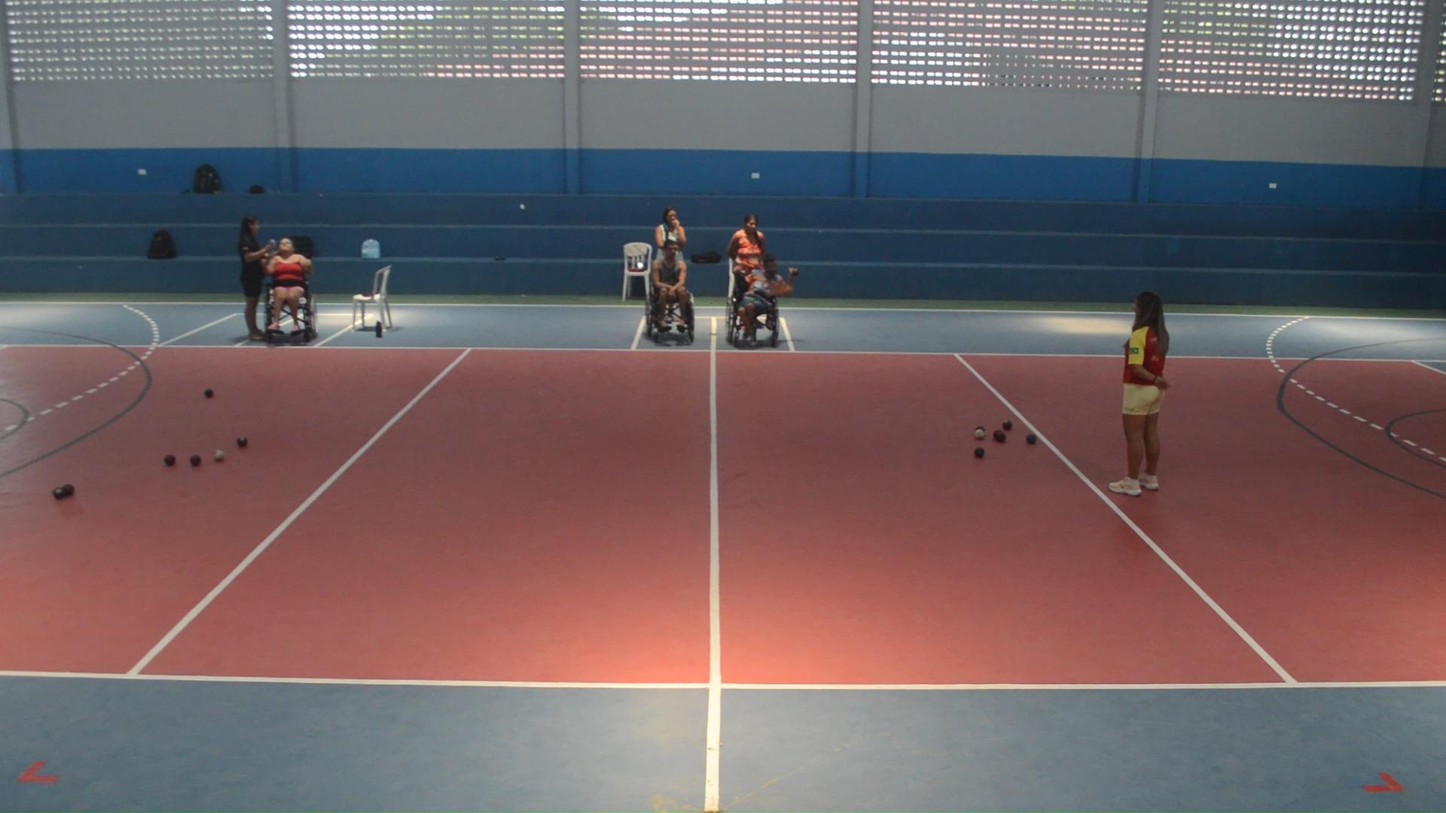blue_ball: (973, 446, 985, 459), (1025, 433, 1037, 445), (975, 426, 984, 435)
red_ball: (1001, 420, 1012, 431), (995, 432, 1006, 443), (993, 429, 1002, 441)
white_ball: (974, 429, 985, 440)
